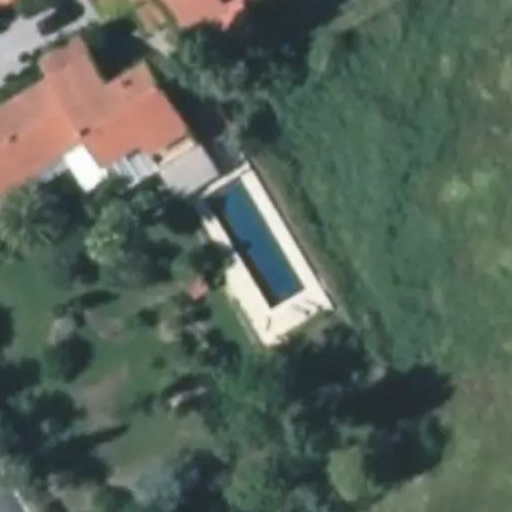pool: (205, 196, 307, 287)
